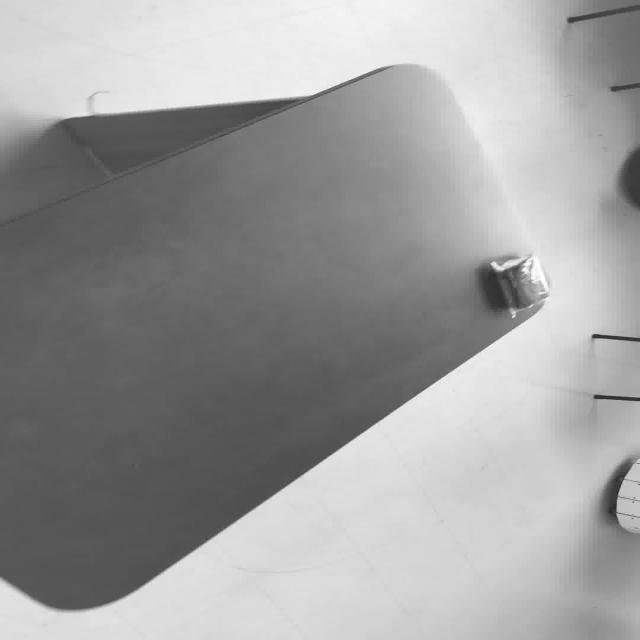sponge: (1, 62, 550, 611), (488, 252, 549, 317)
